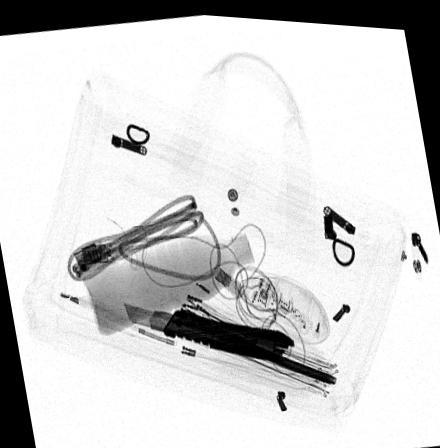Knife: (122, 299, 295, 358)
